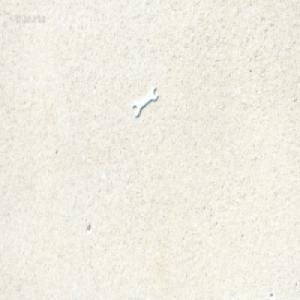Wrench: (131, 85, 158, 118)
